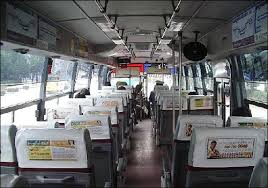seat: (27, 119, 104, 183)
